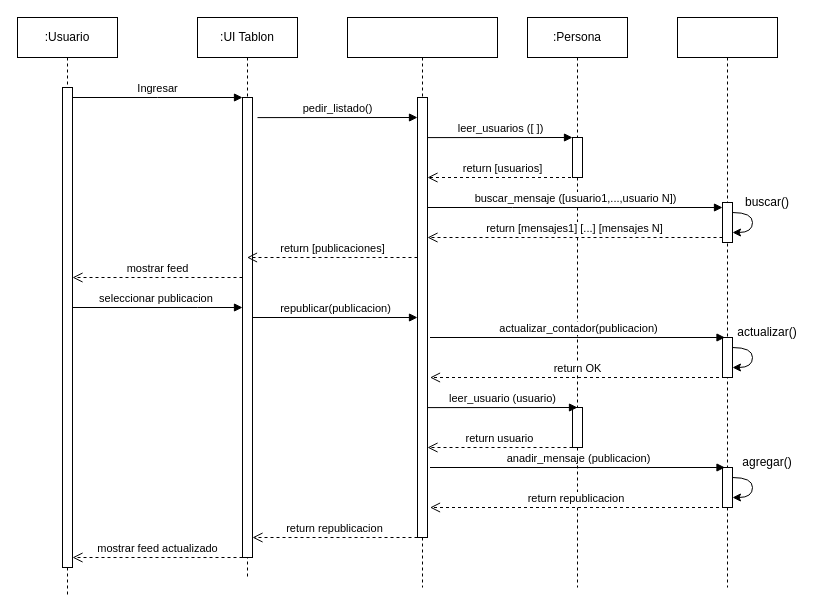
Image size: 815x615. Some labels were removed from this diagram. The shapes that lost their labels are listed below. From the top down, each one's box as (x1, y1, x2, y2) in pixels, then its label:
(346, 16, 498, 588): :Control_Mensaje_Publico
(676, 16, 778, 588): :Mensaje publico
